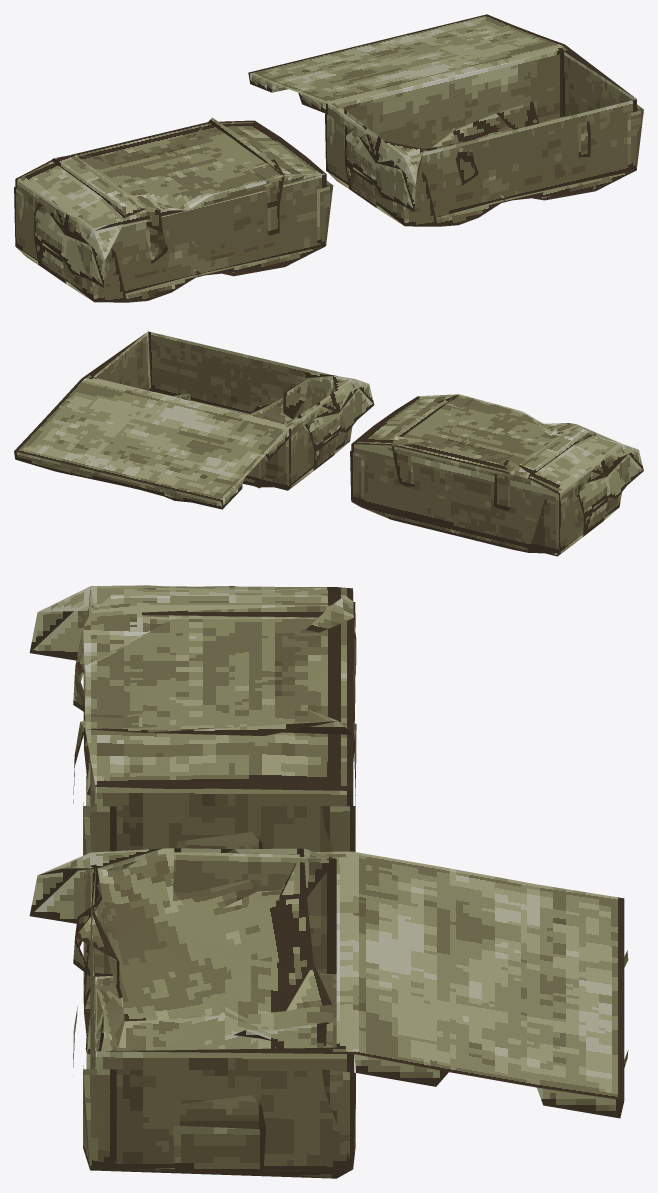
File: old_military_crate.glb
3 renders of one model, top to bottom at view 1: azimuth 30°, elevation 25°; view 2: azimuth 150°, elevation 25°; view 3: azimuth 270°, elevation 25°, orthographic. The views are drawn at different scales.
Visible parts, largest first — view 1: mesh; view 2: mesh; view 3: mesh.
Boxes of the visible parts, x1,y1,x2,y2 form: mesh: (14, 14, 643, 302); mesh: (14, 331, 643, 556); mesh: (29, 585, 628, 1178).
Size of the model in its own units: 1.78 by 0.3009 by 0.9481.
Materials: 1 (1 with a texture image).
